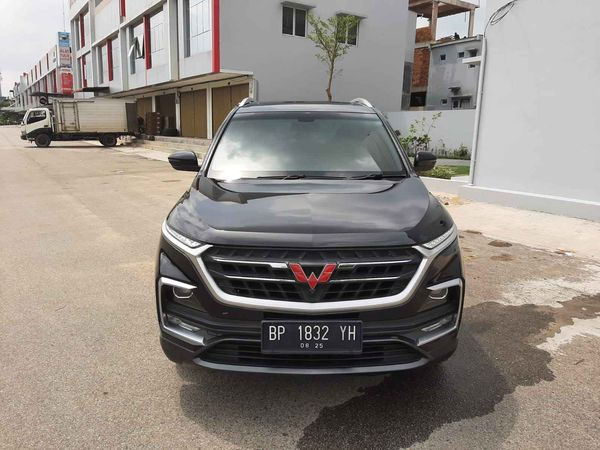plate: (260, 319, 364, 354)
